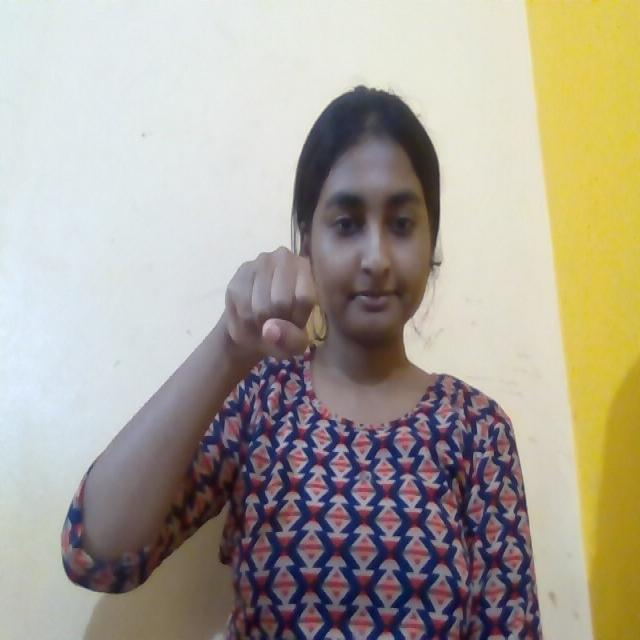Yes: (218, 217, 334, 398)
